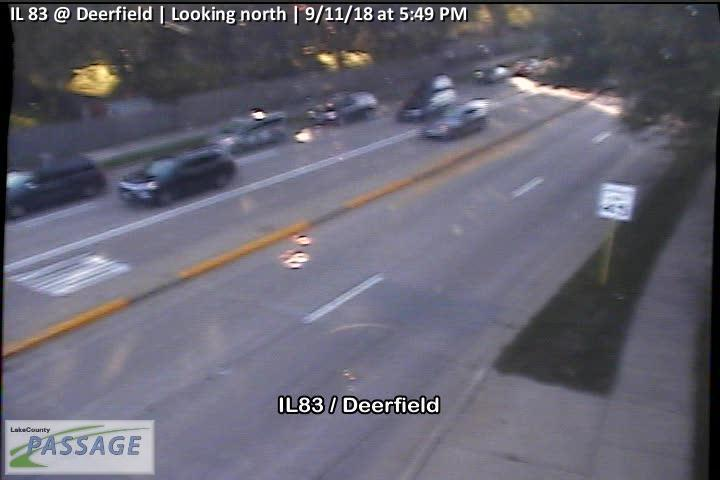SUV: (118, 149, 237, 207), (1, 154, 107, 218), (418, 99, 487, 143)
